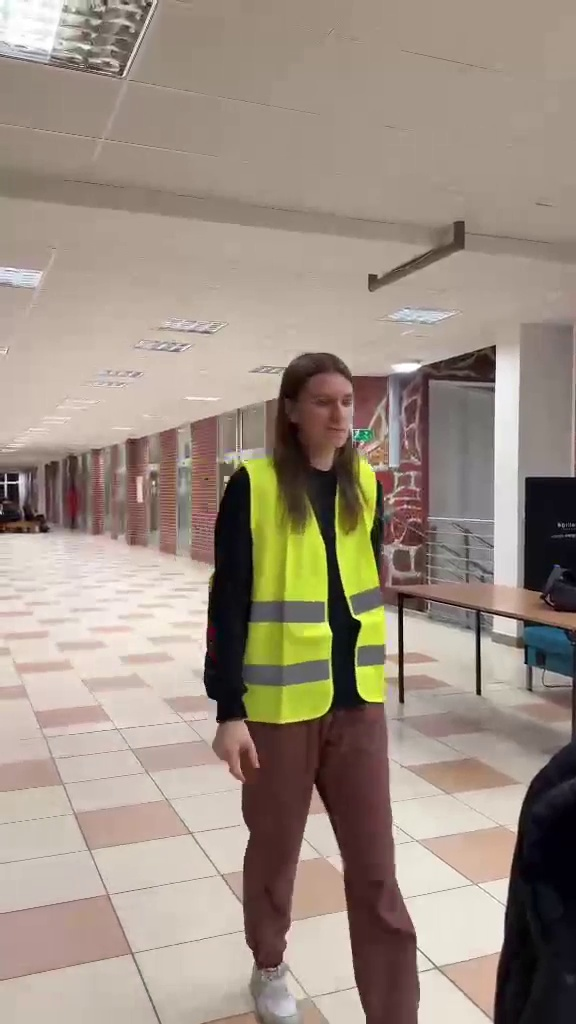vest: (201, 353, 424, 983)
